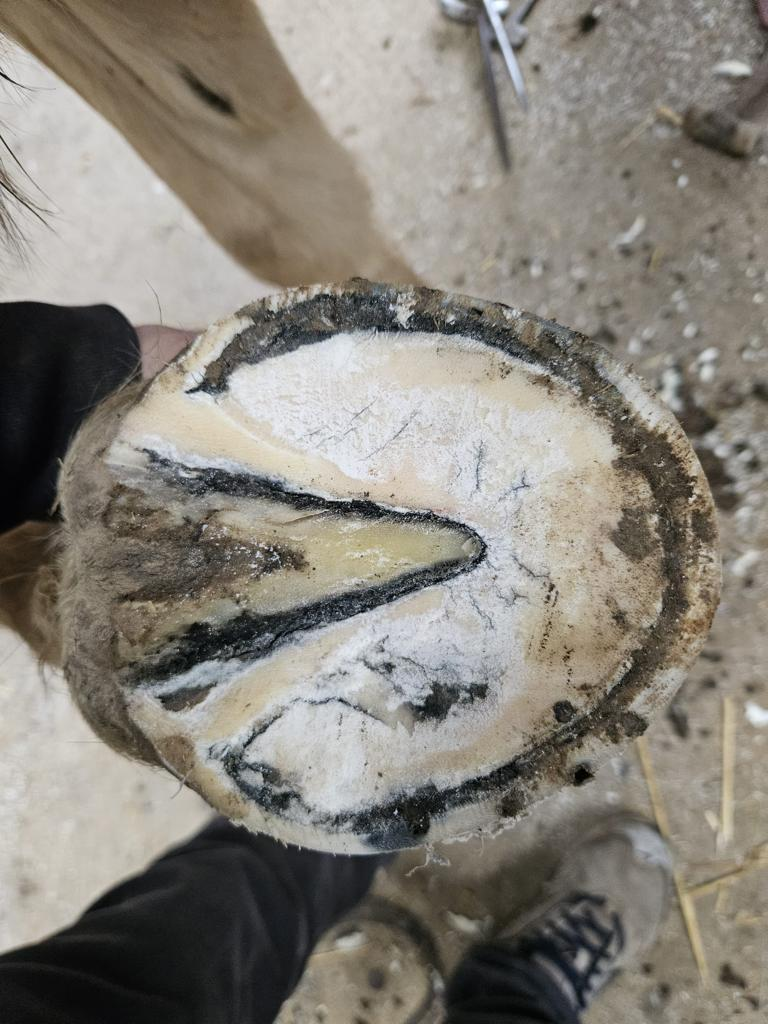horsesole: (97, 283, 726, 855)
